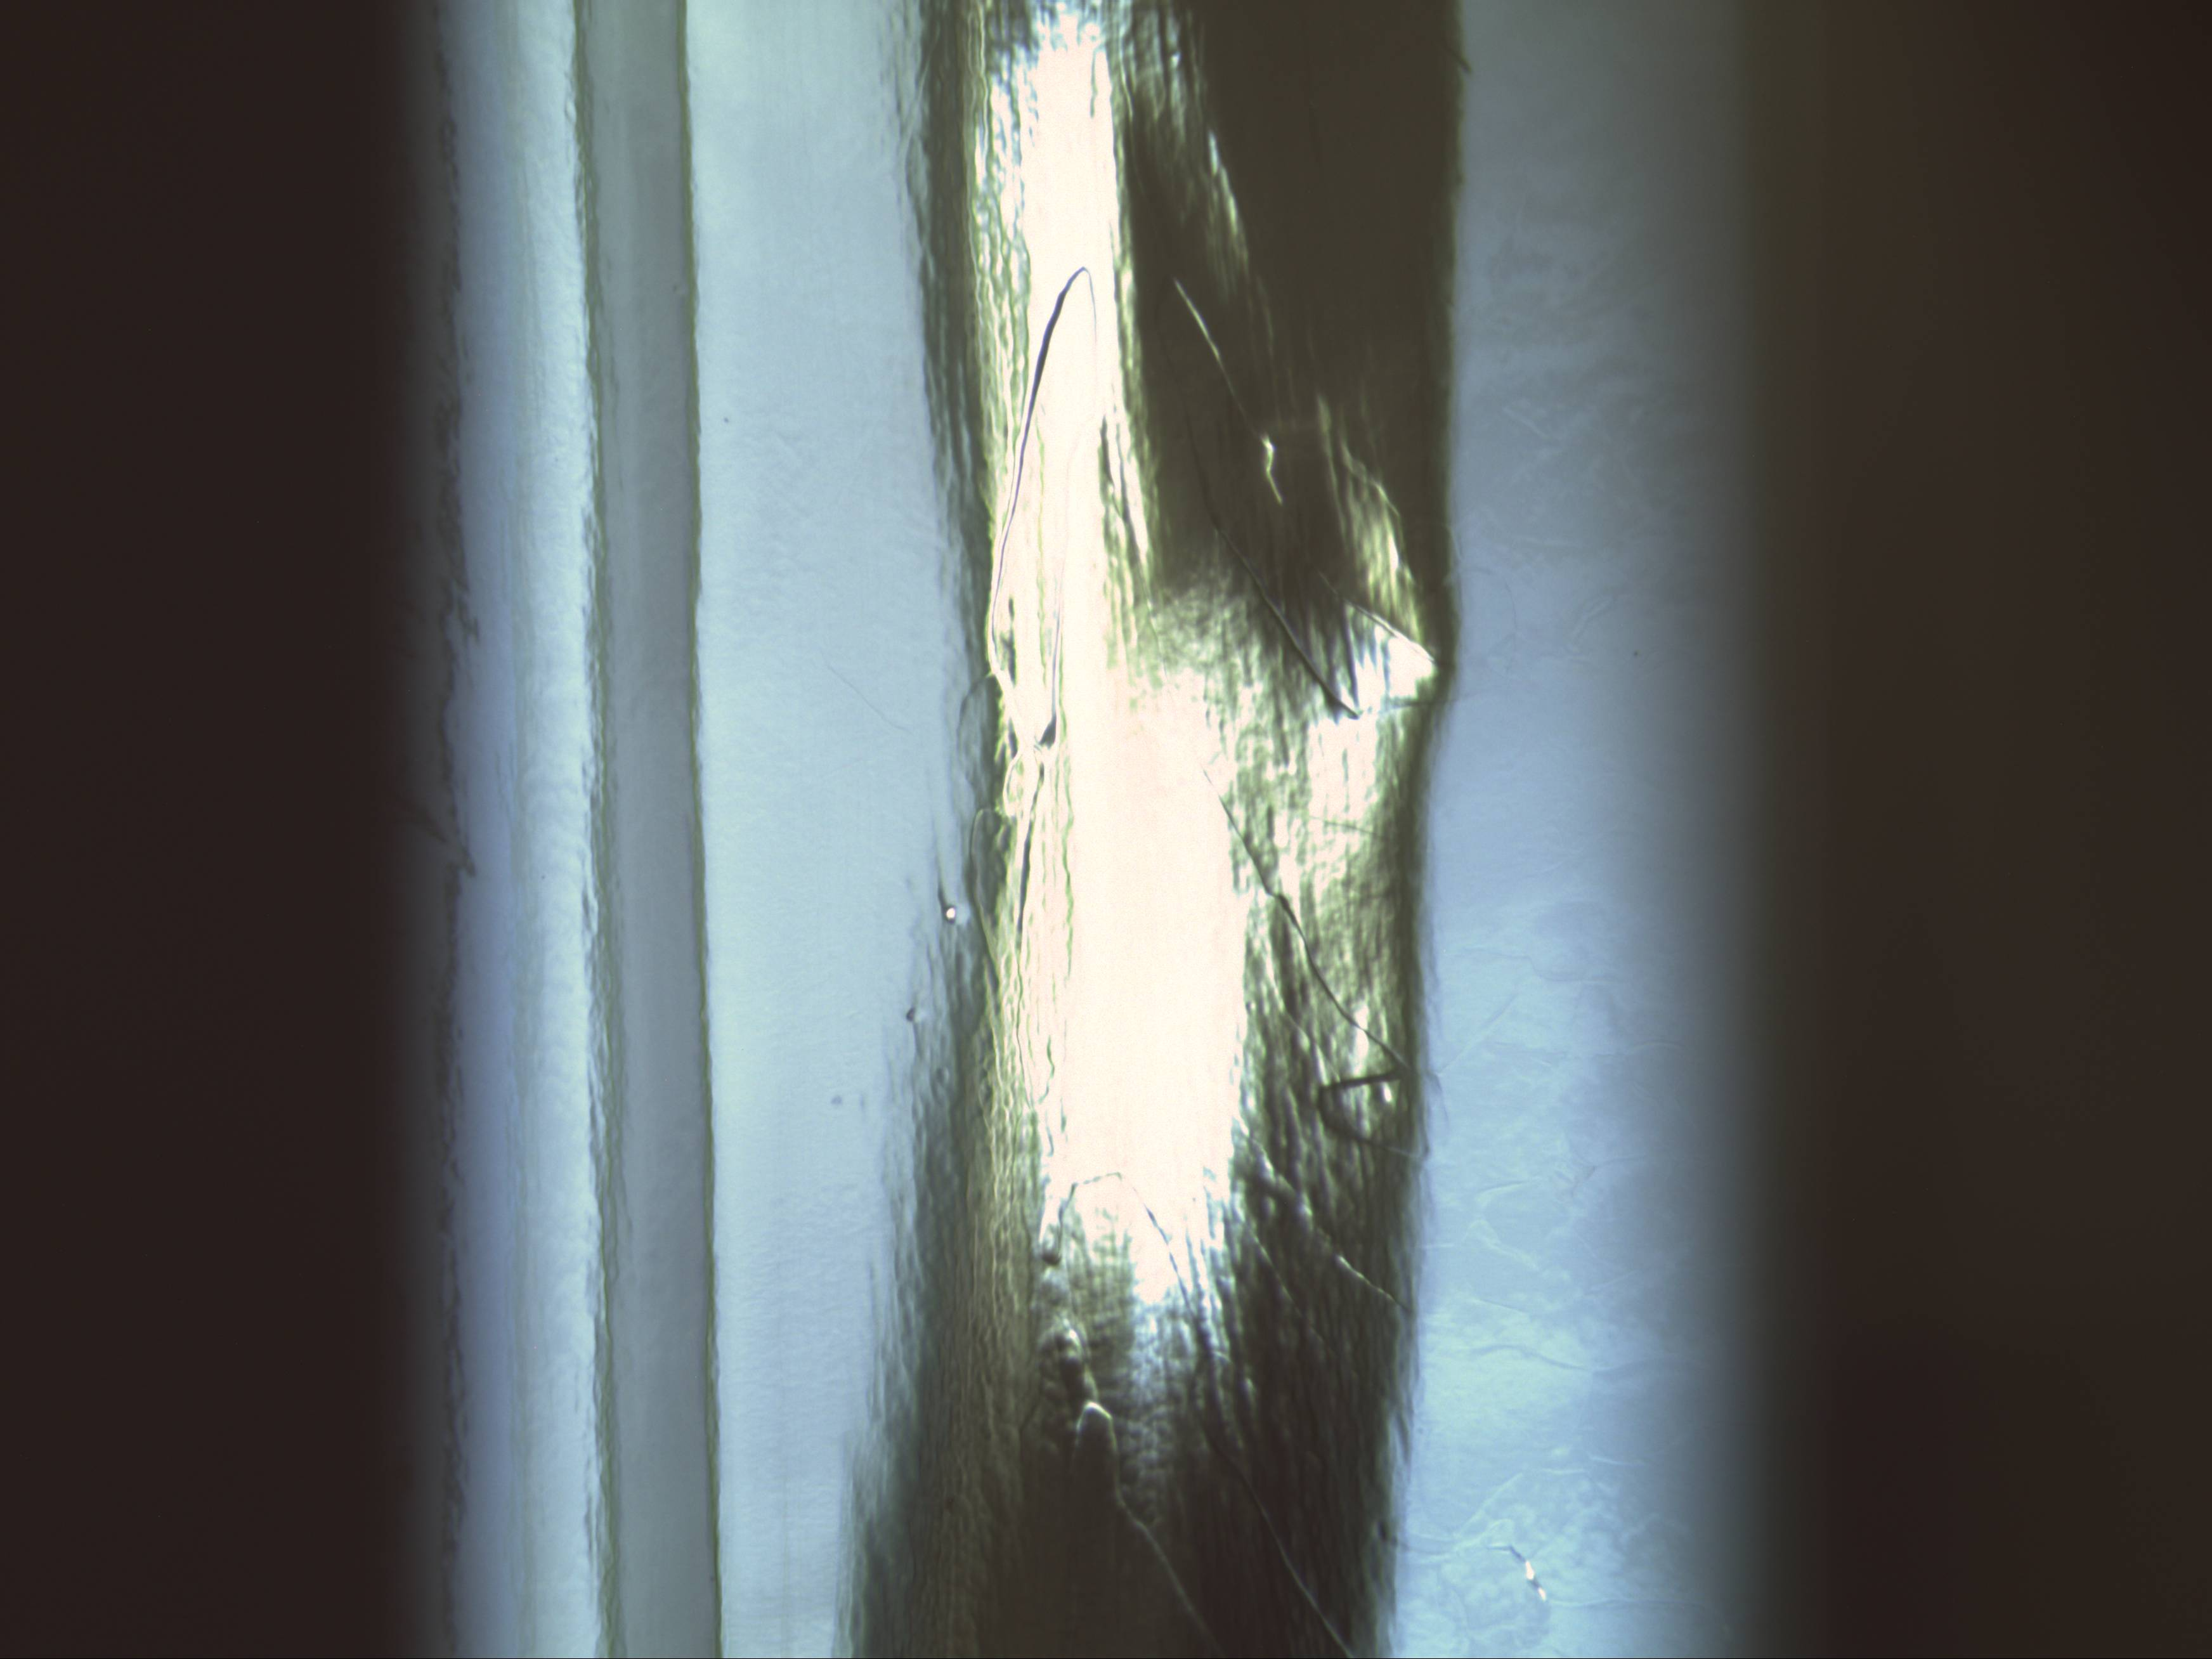defect: (935, 897, 963, 927)
